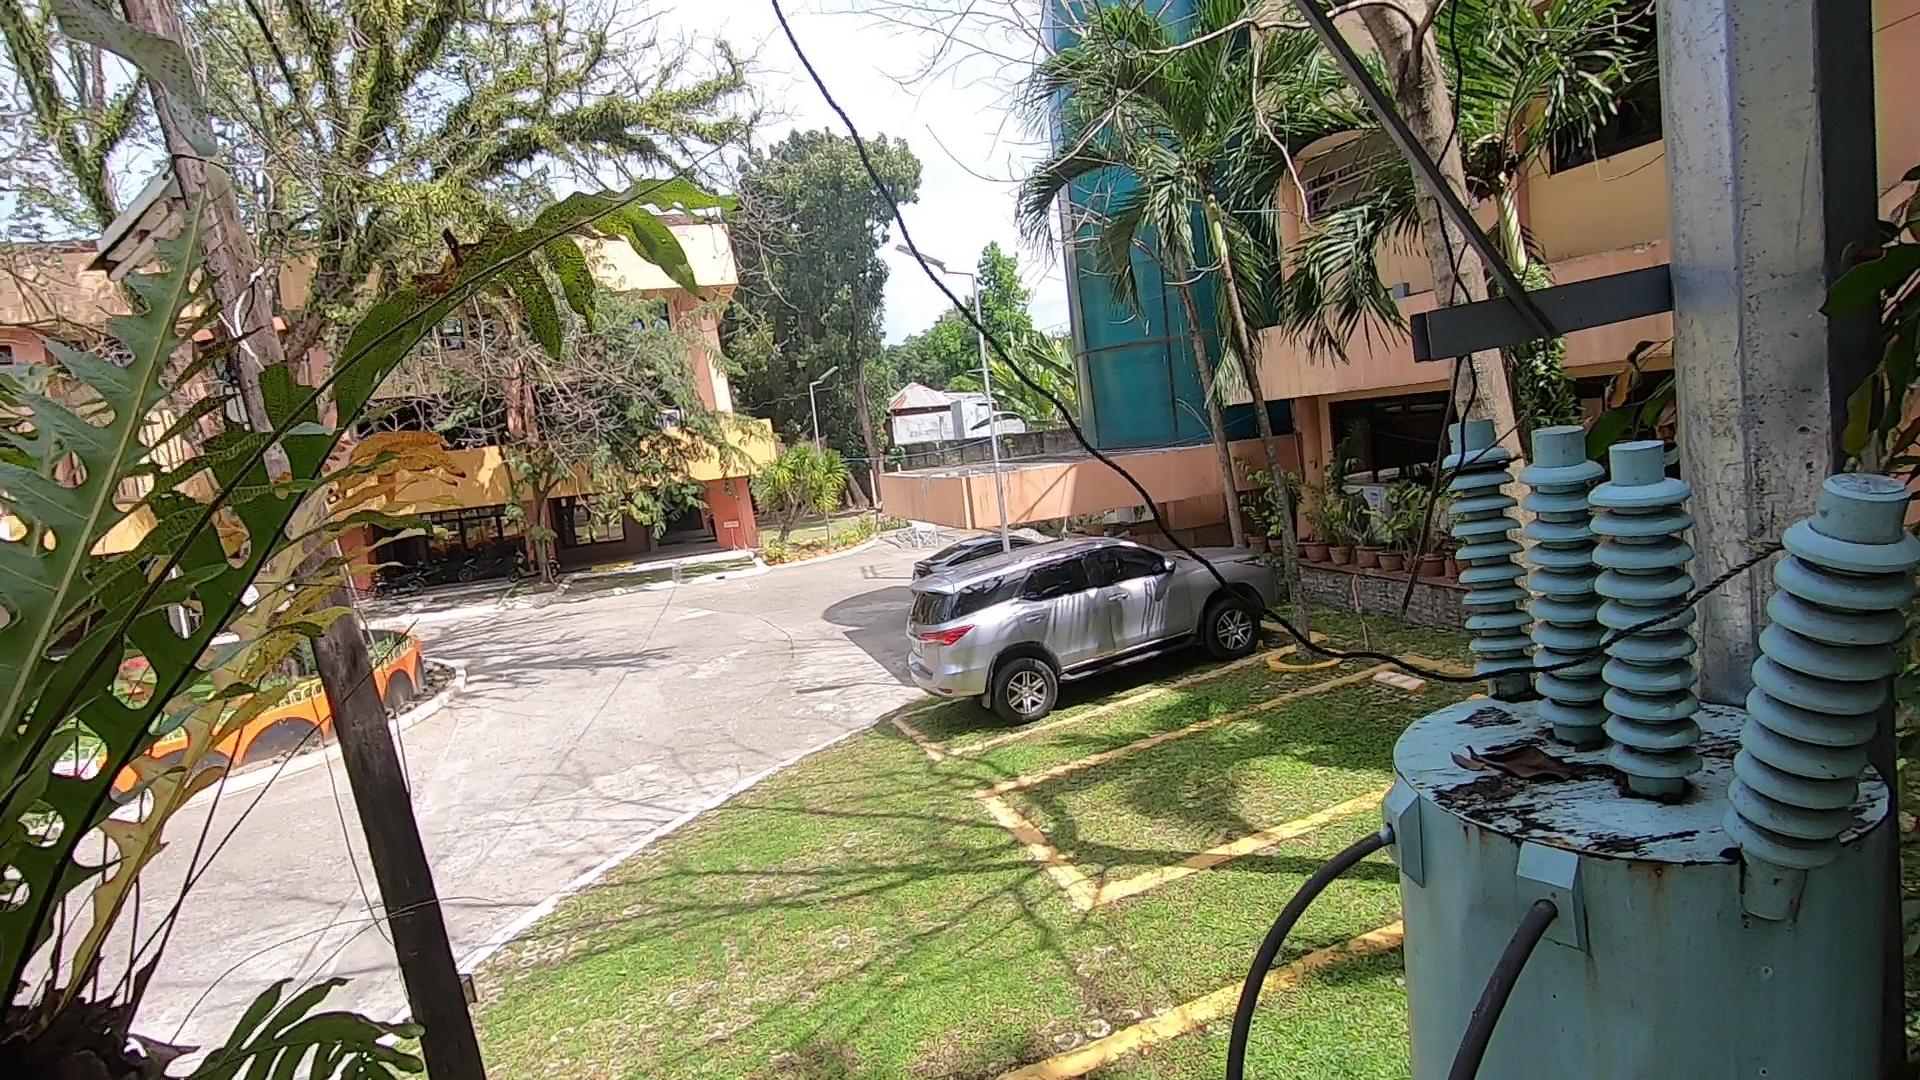leaf: (1449, 735, 1602, 789), (1486, 684, 1538, 709)
tree branch: (1356, 142, 1495, 630)
